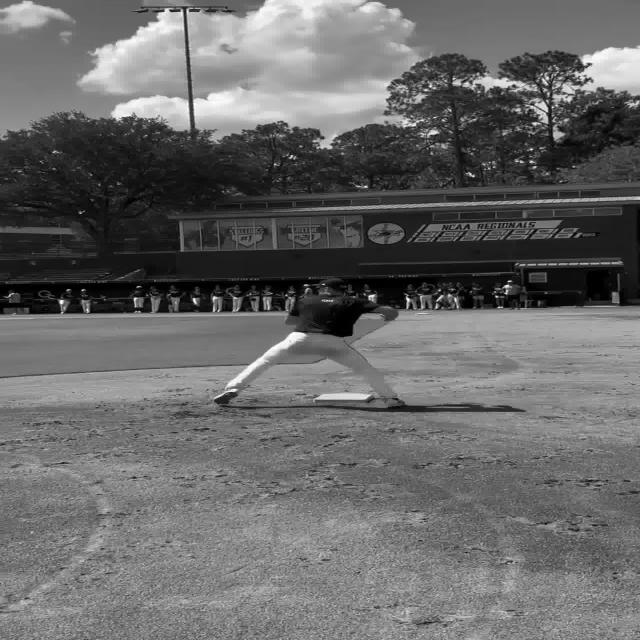base: (313, 392, 376, 405)
shoe: (213, 389, 242, 405), (385, 398, 407, 409)
